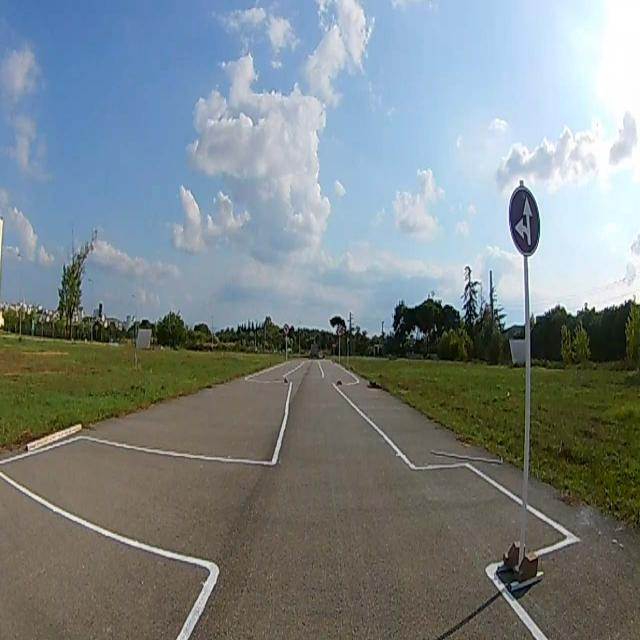ilerisol: (508, 184, 542, 253)
